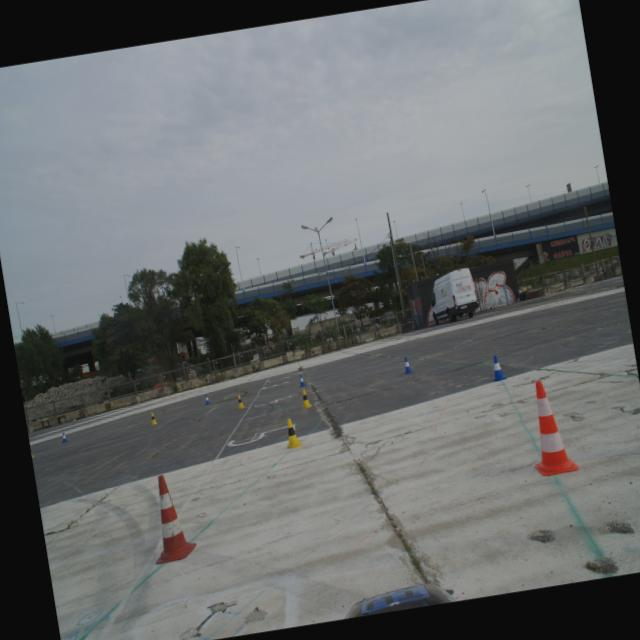blue_cone: (488, 353, 508, 382), (400, 356, 414, 375), (298, 374, 306, 387), (60, 432, 68, 443), (204, 394, 212, 404)
large_orange_cone: (522, 377, 580, 478), (142, 471, 199, 565)
yellow_cone: (282, 417, 304, 449), (299, 388, 313, 409), (236, 394, 247, 409), (148, 412, 158, 426)
